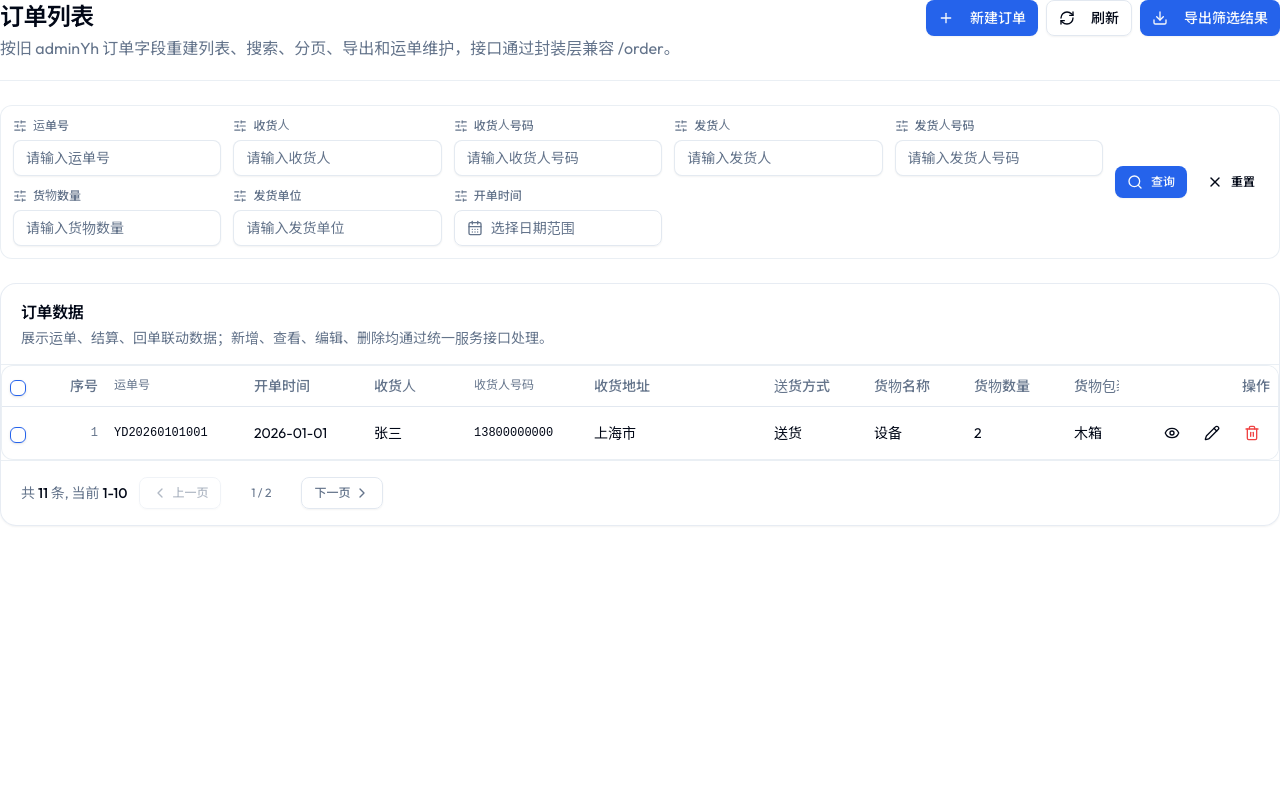
Scenario: OrdersList › loads detail for view and keeps the form readonly
Check: the text "YD20260101001" is shown, box x1=106 y1=406 x2=246 y2=458
Click the button named "查看订单".
click(1172, 432)  # box x1=1154 y1=414 x2=1190 y2=450
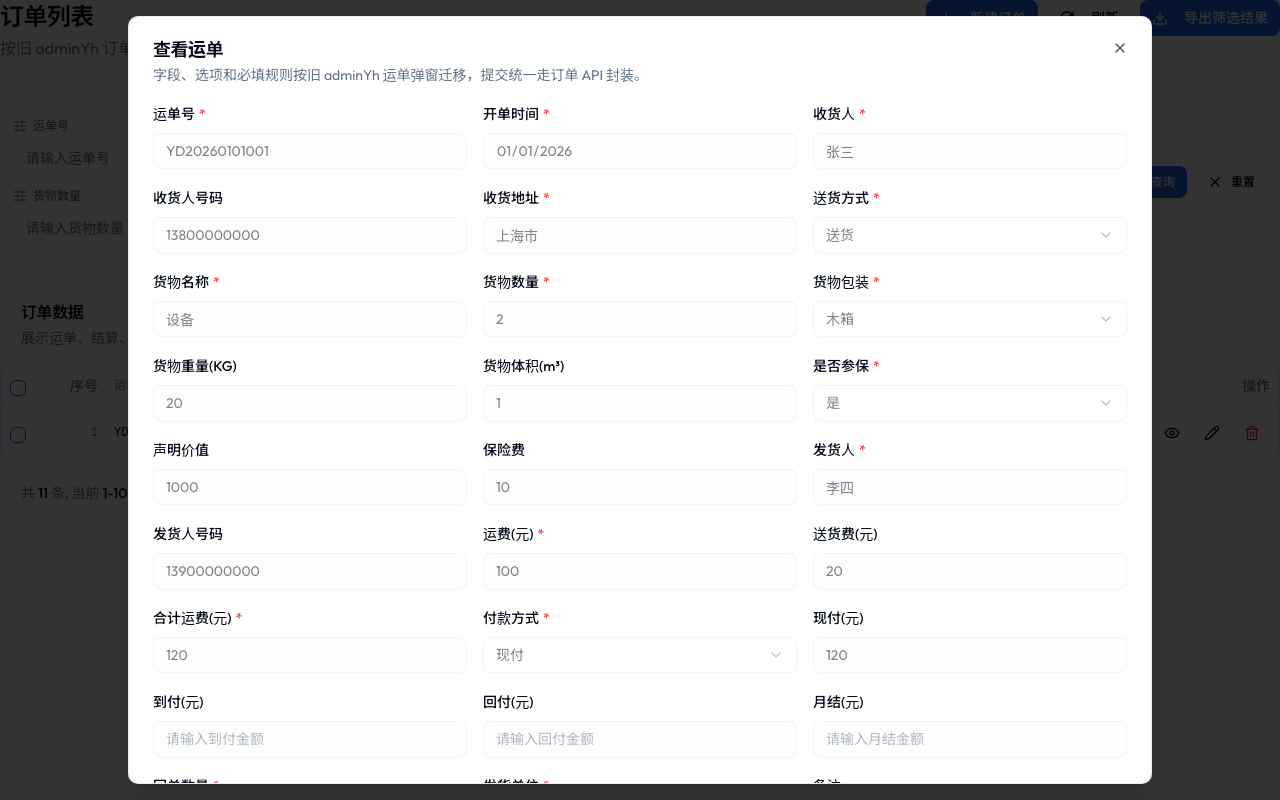
Check: the heading "查看运单" is shown, box x1=153 y1=38 x2=223 y2=61
